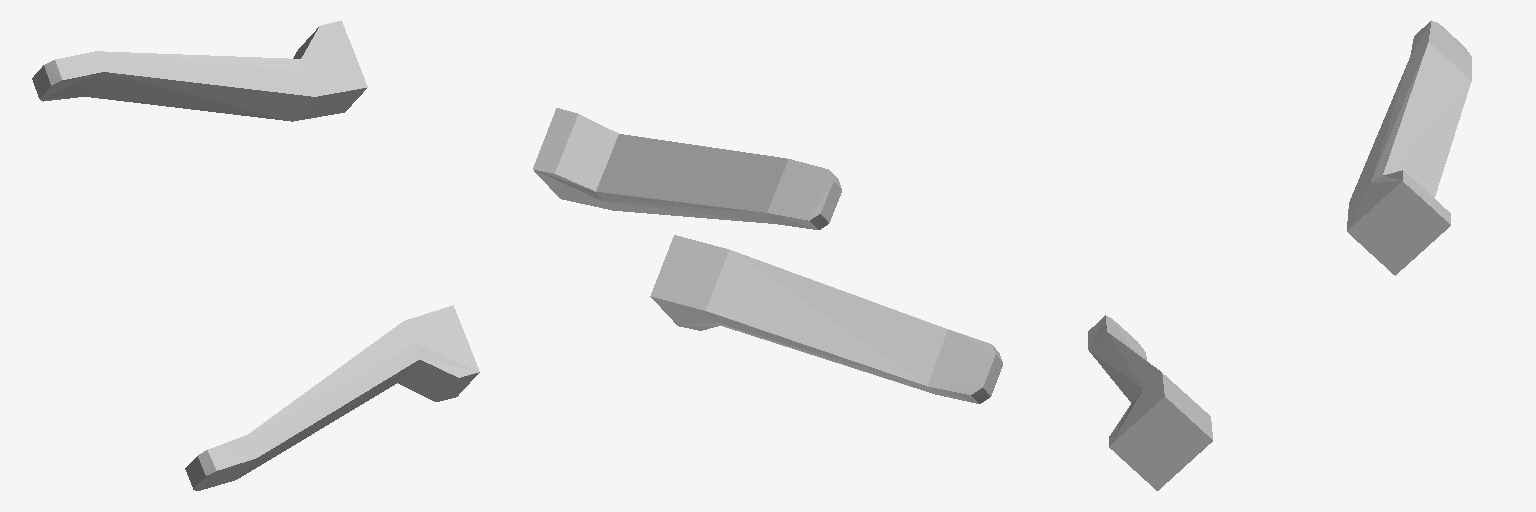
URDF robot description (panda):
<?xml version="1.0" ?>

<robot name="panda" xmlns:xacro="http://www.ros.org/wiki/xacro">
  
  <link name="panda_link0">
    <visual>
      <geometry>
        <mesh filename="package://model_description/meshes/visual/link0.stl"/>
      </geometry>
      <material name="panda_gray"/>
    </visual>
    <collision>
      <geometry>
        <mesh filename="package://model_description/meshes/collision/link0.stl"/>
      </geometry>
      <material name="panda_gray"/>
    </collision>
    <inertial>
      <origin xyz="0 0 0" rpy="0 0 0"/>
      <mass value="3.06"/>
      <inertia ixx="0.3" ixy="0.0" ixz="0.0" iyy="0.3" iyz="0.0" izz="0.3"/>
    </inertial>
  </link>
  
  <link name="panda_link1">
    <visual>
      <geometry>
        <mesh filename="package://model_description/meshes/visual/link1.stl"/>
      </geometry>
      <material name="panda_white"/>
    </visual>
    <collision>
      <geometry>
        <mesh filename="package://model_description/meshes/collision/link1.stl"/>
      </geometry>
      <material name="panda_white"/>
    </collision>
    <inertial>
      <origin xyz="0 0 0" rpy="0 0 0"/>
      <mass value="2.34"/>
      <inertia ixx="0.3" ixy="0.0" ixz="0.0" iyy="0.3" iyz="0.0" izz="0.3"/>
    </inertial>
  </link>
  
  <joint name="panda_joint1" type="revolute">
    <safety_controller k_position="100.0" k_velocity="40.0" soft_lower_limit="-2.8973" soft_upper_limit="2.8973"/>
    <origin rpy="0 0 0" xyz="0 0 0.333"/>
    <parent link="panda_link0"/>
    <child link="panda_link1"/>
    <axis xyz="0 0 1"/>
    <limit effort="87" lower="-2.8973" upper="2.8973" velocity="2.1750"/>
    <dynamics damping="0.5"/>
  </joint>
  
  <link name="panda_link2">
    <visual>
      <geometry>
        <mesh filename="package://model_description/meshes/visual/link2.stl"/>
      </geometry>
      <material name="panda_white"/>
    </visual>
    <collision>
      <geometry>
        <mesh filename="package://model_description/meshes/collision/link2.stl"/>
      </geometry>
      <material name="panda_white"/>
    </collision>
    <inertial>
      <origin xyz="0 0 0" rpy="0 0 0"/>
      <mass value="2.36"/>
      <inertia ixx="0.3" ixy="0.0" ixz="0.0" iyy="0.3" iyz="0.0" izz="0.3"/>
    </inertial>
  </link>
  
  <joint name="panda_joint2" type="revolute">
    <safety_controller k_position="100.0" k_velocity="40.0" soft_lower_limit="-1.7628" soft_upper_limit="1.7628"/>
    <origin rpy="-1.57079632679 0 0" xyz="0 0 0"/>
    <parent link="panda_link1"/>
    <child link="panda_link2"/>
    <axis xyz="0 0 1"/>
    <limit effort="87" lower="-1.7628" upper="1.7628" velocity="2.1750"/>
    <dynamics damping="0.5"/>
  </joint>
  
  <link name="panda_link3">
    <visual>
      <geometry>
        <mesh filename="package://model_description/meshes/visual/link3.stl"/>
      </geometry>
      <material name="panda_white"/>
    </visual>
    <collision>
      <geometry>
        <mesh filename="package://model_description/meshes/collision/link3.stl"/>
      </geometry>
      <material name="panda_white"/>
    </collision>
    <inertial>
      <origin xyz="0 0 0" rpy="0 0 0"/>
      <mass value="2.38"/>
      <inertia ixx="0.3" ixy="0.0" ixz="0.0" iyy="0.3" iyz="0.0" izz="0.3"/>
    </inertial>
  </link>
  
  <joint name="panda_joint3" type="revolute">
    <safety_controller k_position="100.0" k_velocity="40.0" soft_lower_limit="-2.8973" soft_upper_limit="2.8973"/>
    <origin rpy="1.57079632679 0 0" xyz="0 -0.316 0"/>
    <parent link="panda_link2"/>
    <child link="panda_link3"/>
    <axis xyz="0 0 1"/>
    <limit effort="87" lower="-2.8973" upper="2.8973" velocity="2.1750"/>
    <dynamics damping="0.5"/>
  </joint>
  
  <link name="panda_link4">
    <visual>
      <geometry>
        <mesh filename="package://model_description/meshes/visual/link4.stl"/>
      </geometry>
      <material name="panda_white"/>
    </visual>
    <collision>
      <geometry>
        <mesh filename="package://model_description/meshes/collision/link4.stl"/>
      </geometry>
      <material name="panda_white"/>
    </collision>
    <inertial>
      <origin xyz="0 0 0" rpy="0 0 0"/>
      <mass value="2.43"/>
      <inertia ixx="0.3" ixy="0.0" ixz="0.0" iyy="0.3" iyz="0.0" izz="0.3"/>
    </inertial>
  </link>
  
  <joint name="panda_joint4" type="revolute">
    <safety_controller k_position="100.0" k_velocity="40.0" soft_lower_limit="-3.0718" soft_upper_limit="-0.0698"/>
    <origin rpy="1.57079632679 0 0" xyz="0.0825 0 0"/>
    <parent link="panda_link3"/>
    <child link="panda_link4"/>
    <axis xyz="0 0 1"/>
    <limit effort="87" lower="-3.0718" upper="-0.0698" velocity="2.1750"/>
    <dynamics damping="0.5"/>
  </joint>
  
  <link name="panda_link5">
    <visual>
      <geometry>
        <mesh filename="package://model_description/meshes/visual/link5.stl"/>
      </geometry>
      <material name="panda_white"/>
    </visual>
    <collision>
      <geometry>
        <mesh filename="package://model_description/meshes/collision/link5.stl"/>
      </geometry>
      <material name="panda_white"/>
    </collision>
    <inertial>
      <origin xyz="0 0 0" rpy="0 0 0"/>
      <mass value="3.5"/>
      <inertia ixx="0.3" ixy="0.0" ixz="0.0" iyy="0.3" iyz="0.0" izz="0.3"/>
    </inertial>
  </link>
  
  <joint name="panda_joint5" type="revolute">
    <safety_controller k_position="100.0" k_velocity="40.0" soft_lower_limit="-2.8973" soft_upper_limit="2.8973"/>
    <origin rpy="-1.57079632679 0 0" xyz="-0.0825 0.384 0"/>
    <parent link="panda_link4"/>
    <child link="panda_link5"/>
    <axis xyz="0 0 1"/>
    <limit effort="12" lower="-2.8973" upper="2.8973" velocity="2.6100"/>
    <dynamics damping="0.5"/>
  </joint>
  
  <link name="panda_link6">
    <visual>
      <geometry>
        <mesh filename="package://model_description/meshes/visual/link6.stl"/>
      </geometry>
      <material name="panda_white"/>
    </visual>
    <collision>
      <geometry>
        <mesh filename="package://model_description/meshes/collision/link6.stl"/>
      </geometry>
      <material name="panda_white"/>
    </collision>
    <inertial>
      <origin xyz="0 0 0" rpy="0 0 0"/>
      <mass value="1.47"/>
      <inertia ixx="0.3" ixy="0.0" ixz="0.0" iyy="0.3" iyz="0.0" izz="0.3"/>
    </inertial>
  </link>
  
  <joint name="panda_joint6" type="revolute">
    <safety_controller k_position="100.0" k_velocity="40.0" soft_lower_limit="-0.0175" soft_upper_limit="3.7525"/>
    <origin rpy="1.57079632679 0 0" xyz="0 0 0"/>
    <parent link="panda_link5"/>
    <child link="panda_link6"/>
    <axis xyz="0 0 1"/>
    <limit effort="12" lower="-0.0175" upper="3.752" velocity="2.6100"/>
    <dynamics damping="0.5"/>
  </joint>
  
  <link name="panda_link7">
    <visual>
      <geometry>
        <mesh filename="package://model_description/meshes/visual/link7.stl"/>
      </geometry>
      <material name="panda_white"/>
    </visual>
    <collision>
      <geometry>
        <mesh filename="package://model_description/meshes/collision/link7.stl"/>
      </geometry>
      <material name="panda_white"/>
    </collision>
    <inertial>
      <origin xyz="0 0 0" rpy="0 0 0"/>
      <mass value="0.45"/>
      <inertia ixx="0.3" ixy="0.0" ixz="0.0" iyy="0.3" iyz="0.0" izz="0.3"/>
    </inertial>
  </link>
  
  <joint name="panda_joint7" type="revolute">
    <safety_controller k_position="100.0" k_velocity="40.0" soft_lower_limit="-2.8973" soft_upper_limit="2.8973"/>
    <origin rpy="1.57079632679 0 0" xyz="0.088 0 0"/>
    <parent link="panda_link6"/>
    <child link="panda_link7"/>
    <axis xyz="0 0 1"/>
    <limit effort="12" lower="-2.8973" upper="2.8973" velocity="2.6100"/>
    <dynamics damping="0.5"/>
  </joint>
  
  <joint name="panda_hand_joint" type="fixed">
    <parent link="panda_link7"/>
    <child link="panda_hand"/>
    <origin rpy="0 0 -0.785398163397" xyz="0 0 0.107"/>
  </joint>
  
  <link name="panda_hand">
    <visual>
      <geometry>
        <mesh filename="package://model_description/meshes/visual/hand.stl"/>
      </geometry>
      <material name="panda_gray"/>
    </visual>
    <collision>
      <geometry>
        <mesh filename="package://model_description/meshes/collision/hand.stl"/>
      </geometry>
      <material name="panda_gray"/>
    </collision>
    <inertial>
      <origin xyz="0 0 0" rpy="0 0 0"/>
      <mass value="0.68"/>
      <inertia ixx="0.1" ixy="0.0" ixz="0.0" iyy="0.1" iyz="0.0" izz="0.1"/>
    </inertial>
  </link>
  
  <link name="panda_leftfinger">
    <visual>
      <origin rpy="0 0 3.14159265359" xyz="0 0 0"/>
      <geometry>
        <mesh filename="package://model_description/meshes/collision/adjusted_finger_long.stl"/>
      </geometry>
      <material name="panda_gray"/>
    </visual>
    <collision>
      <origin rpy="0 0 3.14159265359" xyz="0 0 0"/>
      <geometry>
        <mesh filename="package://model_description/meshes/collision/adjusted_finger_long.stl"/>
      </geometry>
      <material name="panda_gray"/>
    </collision>
    <inertial>
      <origin xyz="0 0 0" rpy="0 0 0"/>
      <mass value="0.01"/>
      <inertia ixx="0.1" ixy="0.0" ixz="0.0" iyy="0.1" iyz="0.0" izz="0.1"/>
    </inertial>
  </link>
  
  <link name="panda_rightfinger">
    <visual>
      <origin rpy="0 0 0" xyz="0 0 0"/>
      <geometry>
        <mesh filename="package://model_description/meshes/collision/adjusted_finger_long.stl"/>
      </geometry>
      <material name="panda_gray"/>
    </visual>
    <collision>
      <origin rpy="0 0 0" xyz="0 0 0"/>
      <geometry>
        <mesh filename="package://model_description/meshes/collision/adjusted_finger_long.stl"/>
      </geometry>
      <material name="panda_gray"/>
    </collision>
    <inertial>
      <origin xyz="0 0 0" rpy="0 0 0"/>
      <mass value="0.01"/>
      <inertia ixx="0.1" ixy="0.0" ixz="0.0" iyy="0.1" iyz="0.0" izz="0.1"/>
    </inertial>
  </link>
  
  <joint name="panda_finger_joint1" type="prismatic">
    <parent link="panda_hand"/>
    <child link="panda_leftfinger"/>
    <origin rpy="0 0 0" xyz="0 0.065 0.0584"/>
    <axis xyz="0 -1 0"/>
    <limit effort="20" lower="0.00" upper="0.065" velocity="0.2"/>
  </joint>
  
  <joint name="panda_finger_joint2" type="prismatic">
    <parent link="panda_hand"/>
    <child link="panda_rightfinger"/>
    <origin rpy="0 0 0" xyz="0 -0.065 0.0584"/>
    <axis xyz="0 1 0"/>
    <limit effort="20" lower="0" upper="0.065" velocity="0.2"/>
    <!--mimic joint="panda_finger_joint1"/-->
  </joint>
  
  <!-- finger tips -->
  <!-- LEFT -->
  <joint name="joint_finger_tip_left" type="fixed">
     <origin xyz="0 -0.009 0.085" rpy="0 0 -1.570796327" />
     <parent link="panda_leftfinger"/>
     <child link="finger_left_tip" />
     <dynamics friction="100" damping="100" />
     <axis xyz="1 0 0"/>
     <limit effort="100" velocity="100"/>
  </joint>

  <link name="finger_left_tip">

      <contact>
        <lateral_friction value="1"/>
        <rolling_friction value="0.1"/>
        <contact_cfm value="0.0"/>
        <contact_erp value="1.0"/>
      </contact>

      <inertial>
          <mass value="0.1" />
          <origin xyz="0 0 0" />
      <inertia ixx="1.0" ixy="0.0" ixz="0.0"
               iyy="1.0" iyz="0.0" 
               izz="1.0" />
      </inertial>

      <visual>
      	  <!--origin xyz="0 -0.005 0.035" rpy="0 0 -1.570796327" /-->
          <geometry>
             <mesh filename="package://wsg50/digit.STL"/>
          </geometry>
          <material name="white">
            <color rgba="1. 1. 1. 1"/>
          </material>
      </visual>

      <collision>
          <!--origin xyz="0 -0.005 0.035" rpy="0 0 -1.570796327" /-->
          <geometry>
             <mesh filename="package://wsg50/digit.STL"/>
         </geometry>
     </collision>
  </link>

  <!-- RIGHT -->

  <joint name="joint_finger_tip_right" type="fixed">

      <origin xyz="0 0.009 0.085" rpy="0 0 1.570796327"/>
     <parent link="panda_rightfinger"/>
     <child link="finger_right_tip" />
     <dynamics friction="100" damping="100" />
     <axis xyz="1 0 0"/>
     <limit effort="100" velocity="100"/>
  </joint>

  <link name="finger_right_tip">

      <contact>
        <lateral_friction value="1"/>
        <rolling_friction value="0.1"/>
        <contact_cfm value="0.0"/>
        <contact_erp value="1.0"/>
      </contact>

      <inertial>
          <mass value="0.1" />
          <origin xyz="0 0 0" />
      <inertia ixx="1.0" ixy="0.0" ixz="0.0"
               iyy="1.0" iyz="0.0" 
               izz="1.0" />
      </inertial>

      <visual>
      	  <!-- origin xyz="0 0.005 0.035" rpy="0 0 1.570796327"/-->
          <geometry>
             <mesh filename="package://wsg50/digit.STL"/>
          </geometry>
          <material name="white">
            <color rgba="1. 1. 1. 1"/>
          </material>
      </visual>

      <collision>
          <!--origin xyz="0 0.005 0.035" rpy="0 0 1.570796327"/-->
          <geometry>
             <mesh filename="package://wsg50/digit.STL"/>
         </geometry>
     </collision>
  </link>

  <material name="panda_white">
    <color rgba="1. 1. 1. 1."/>
  </material>
  <material name="panda_gray">
    <color rgba=".8 .8 .8 1."/>
  </material>
</robot>

--- Facts derived from the render (not from the file) ---
Views: 3 orthographic renders of the robot side by side, from view 1: azimuth 30°, elevation 25°; view 2: azimuth 150°, elevation 25°; view 3: azimuth 270°, elevation 25°.
Robot: panda — 13 links, 12 joints (7 revolute, 2 prismatic, 3 fixed); root link panda_link0; default pose: joints at zero except 1 at the middle of their limits (panda_joint4 = -1.57).
Visible links, largest first — view 1: panda_rightfinger, panda_leftfinger; view 2: panda_leftfinger, panda_rightfinger; view 3: panda_rightfinger, panda_leftfinger.
Boxes of the visible links, left/top/right/bottom form: panda_rightfinger: left=32, top=21, right=367, bottom=121; panda_leftfinger: left=185, top=305, right=479, bottom=490; panda_leftfinger: left=650, top=235, right=1002, bottom=403; panda_rightfinger: left=533, top=108, right=841, bottom=229; panda_rightfinger: left=1347, top=20, right=1471, bottom=275; panda_leftfinger: left=1088, top=315, right=1212, bottom=490.
Bounding box of the posed robot: 0.1037 × 0.1157 × 0.1155 m (x, y, z).
Meshes: 11 distinct files referenced, 2 mesh visuals loaded (1 binary STL); not drawn: 11 (reference not matched to a file when rendering).